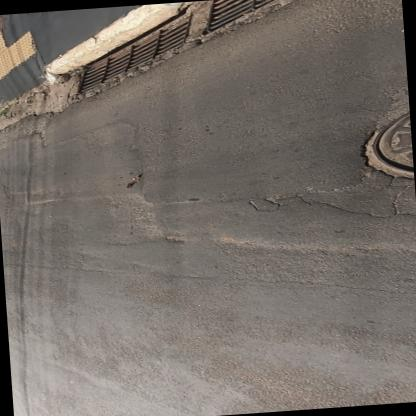manholes: (351, 102, 415, 192)
